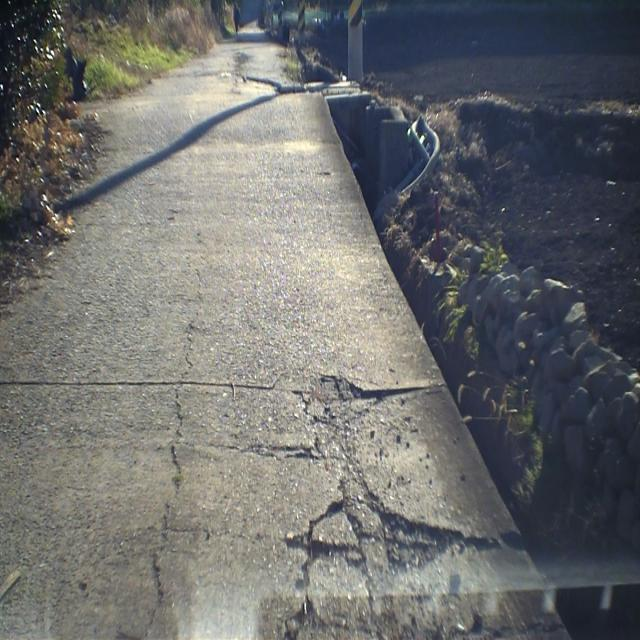Pothole: (282, 371, 501, 588)
